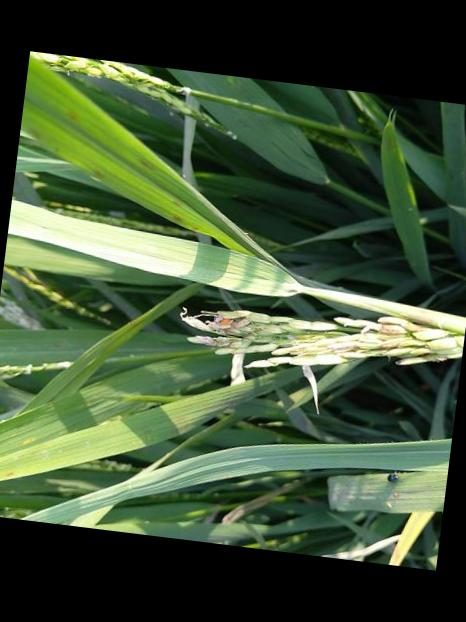Panicle Blight: (343, 316, 463, 358), (181, 308, 288, 355)
